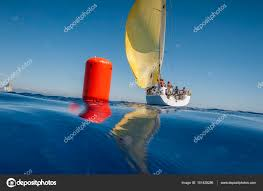buoy: (84, 58, 113, 104)
